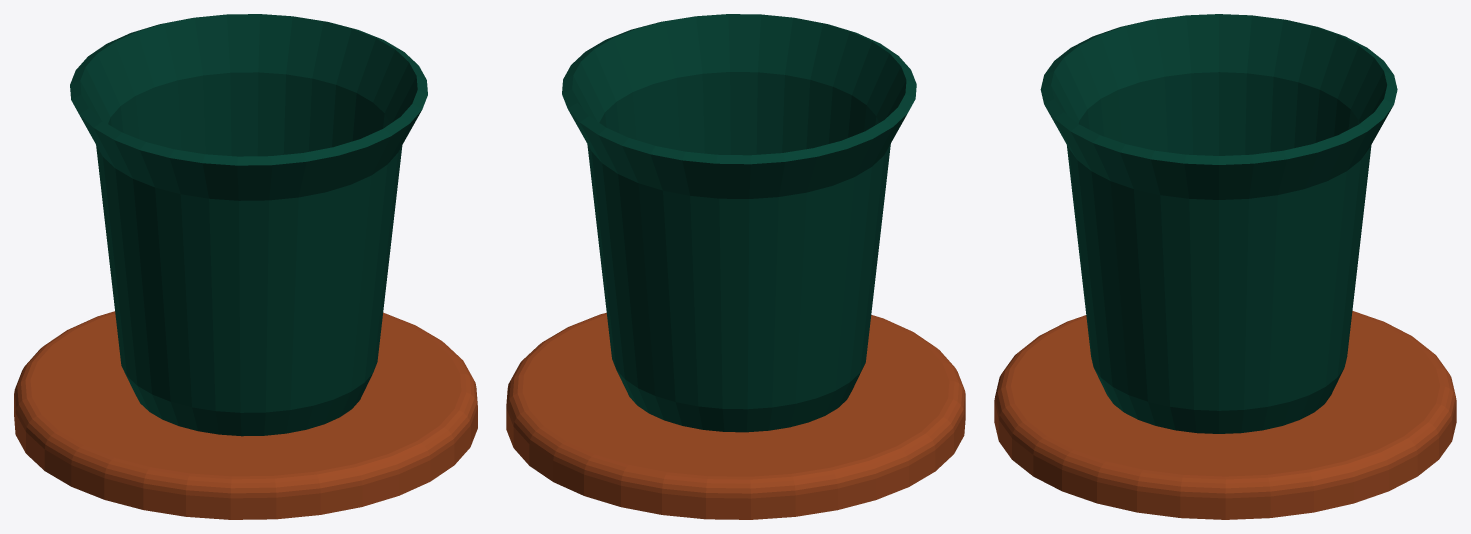
File: cupAndCoaster.glb
3 renders of one model, left to right at view 1: azimuth 30°, elevation 25°; view 2: azimuth 150°, elevation 25°; view 3: azimuth 270°, elevation 25°, orthographic.
Parts seen in each view (by area): view 1: Circle.001, Circle.002; view 2: Circle.001, Circle.002; view 3: Circle.001, Circle.002.
Part boxes in pixels (x1,y1,x2,y2): Circle.001: (70, 14, 427, 436); Circle.002: (14, 311, 477, 519); Circle.001: (562, 14, 916, 432); Circle.002: (506, 313, 965, 519); Circle.001: (1040, 14, 1397, 433); Circle.002: (994, 311, 1456, 519).
Size of the model in its own units: 0.2001 by 0.1611 by 0.2001.
